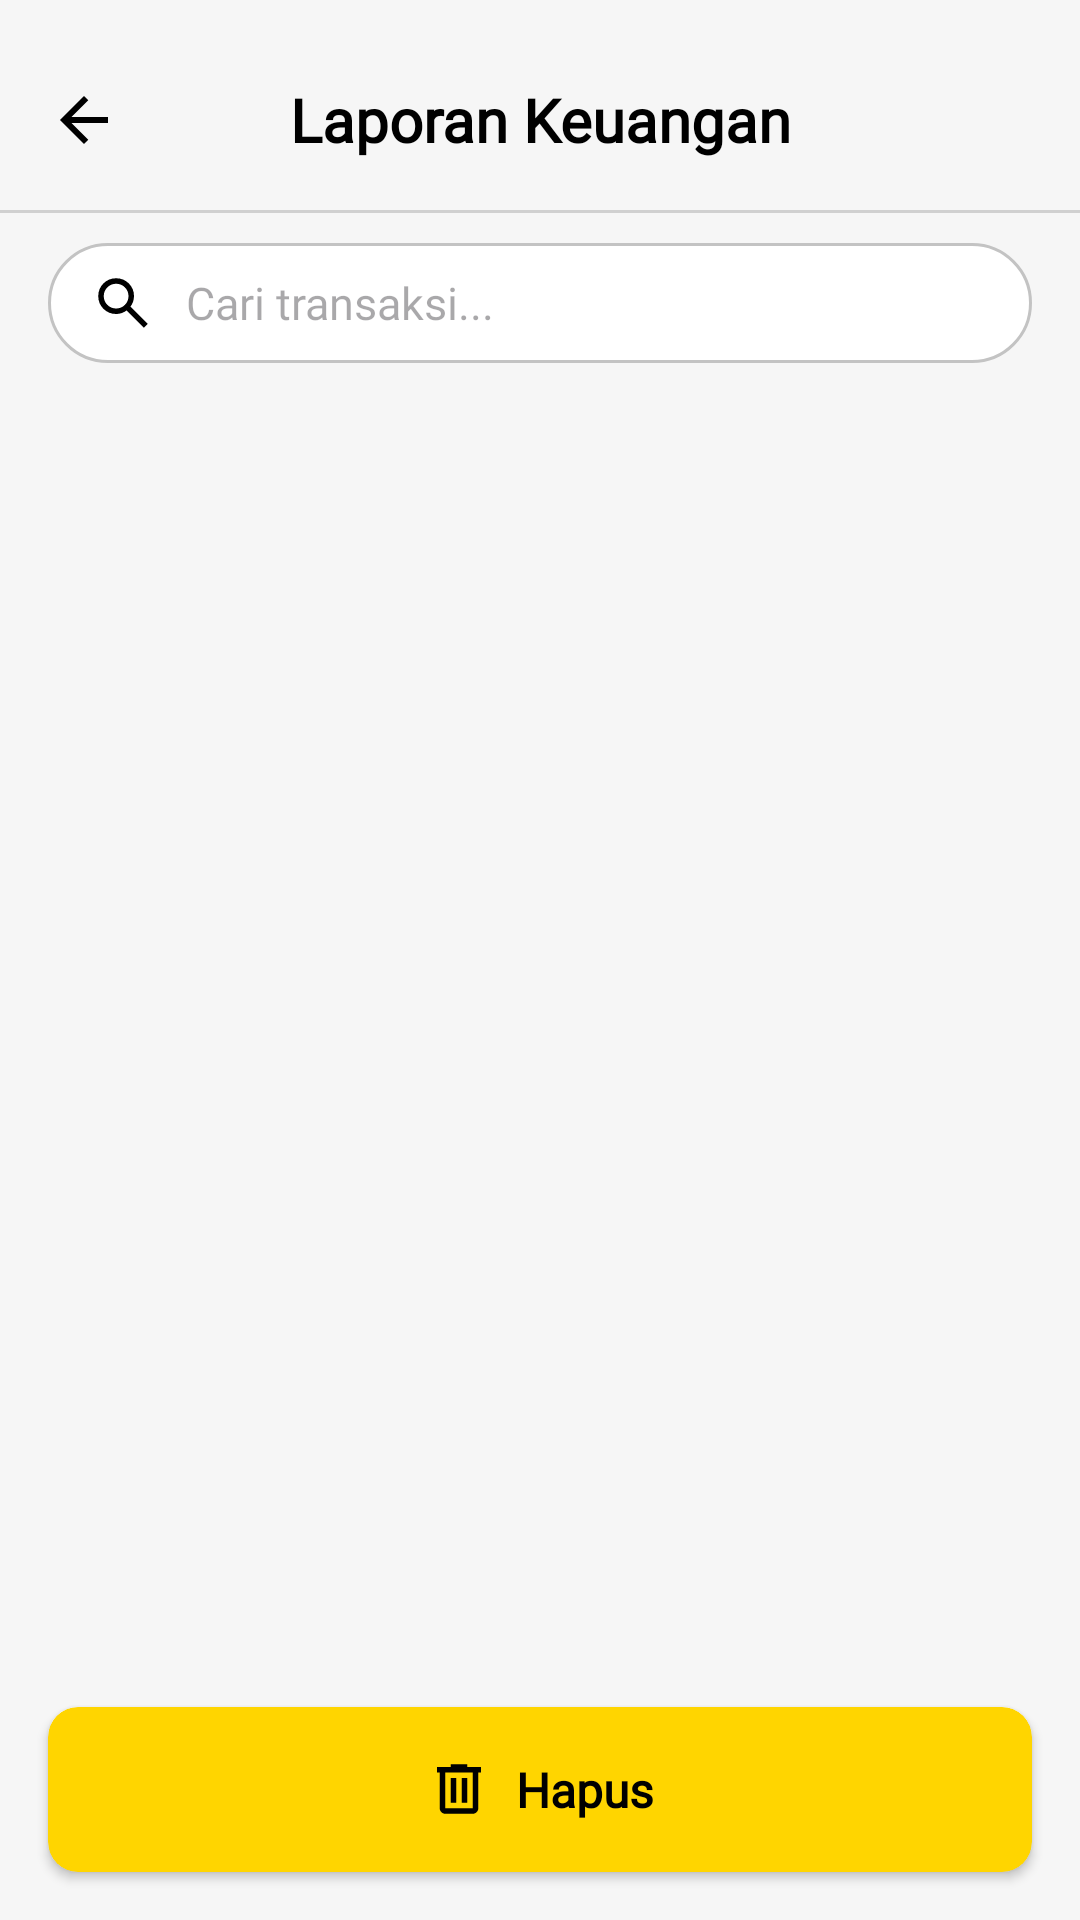

Icons on this 1080 x 1920 Android screen, each with the point to tap as (x=x, y=y):
arrow: (x=84, y=120)
Delete Icon: (x=459, y=1789)
search: (x=123, y=303)
